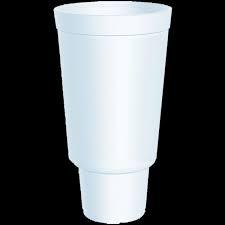Plastic cup: (49, 2, 195, 225)
